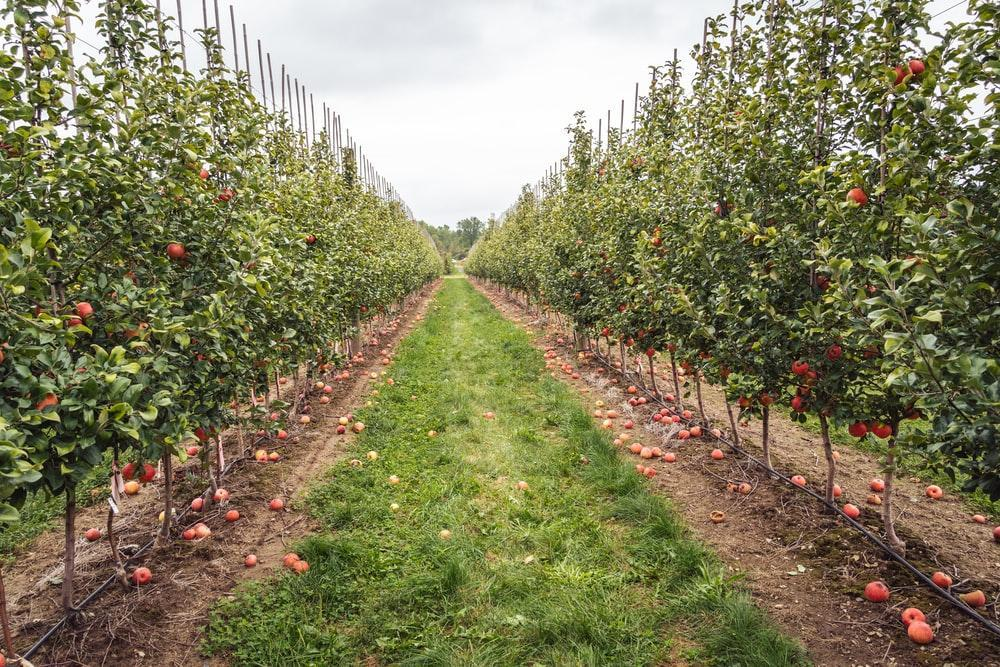apple: (844, 186, 867, 206)
